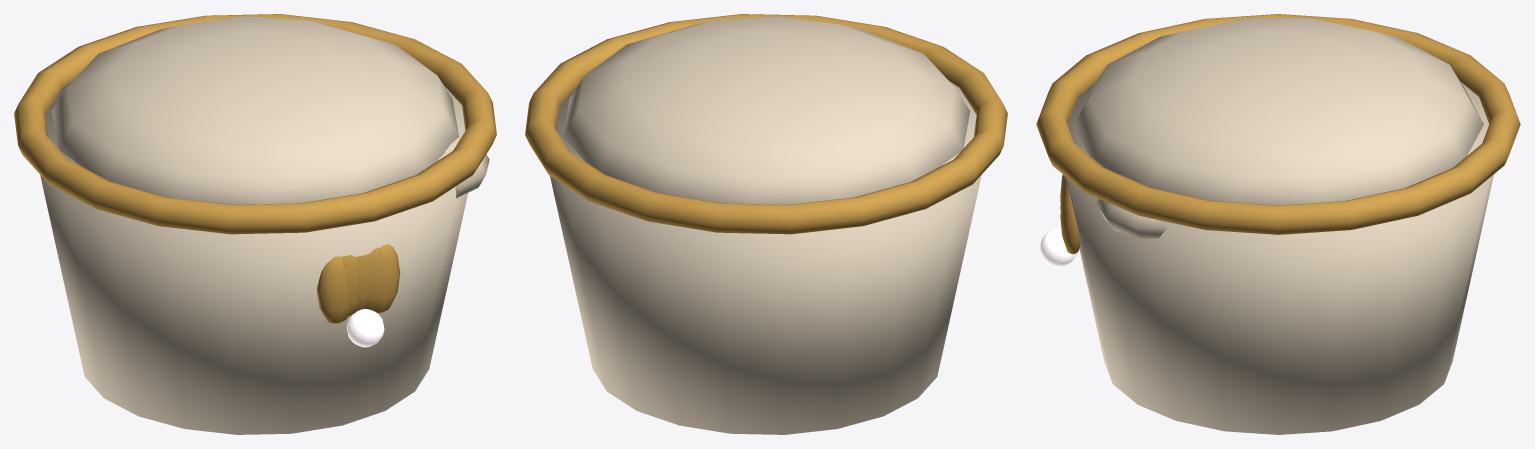
File: opera_painter_pot_1.glb
The picture shows the model from 3 angles, left to right: view 1: azimuth 30°, elevation 25°; view 2: azimuth 150°, elevation 25°; view 3: azimuth 270°, elevation 25°; orthographic projection.
Visible parts, largest first — view 1: VisualMesh.001; view 2: VisualMesh.001; view 3: VisualMesh.001.
Boxes of the visible parts, x1,y1,x2,y2 form: VisualMesh.001: (14,14,496,434); VisualMesh.001: (525,14,1007,434); VisualMesh.001: (1036,14,1520,434).
Size of the model in its own units: 2.78 by 1.91 by 2.78.
